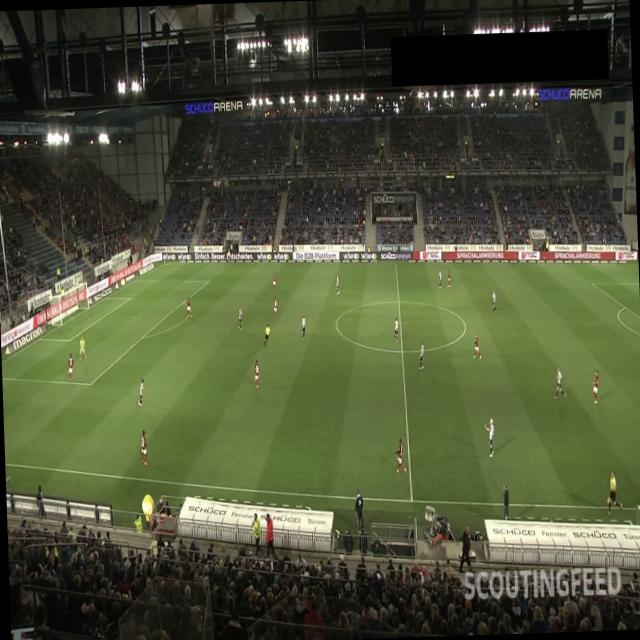ball: (81, 344, 84, 352)
goalkeeper: (78, 336, 87, 360)
player: (484, 416, 495, 457), (552, 366, 566, 398), (394, 438, 406, 474), (140, 428, 148, 464), (592, 369, 600, 404), (472, 333, 481, 359), (253, 360, 260, 390), (418, 341, 424, 370), (68, 352, 74, 380), (138, 378, 144, 406), (393, 316, 399, 342), (491, 289, 497, 314), (237, 306, 243, 330), (300, 314, 306, 338), (272, 296, 278, 318), (186, 296, 192, 318), (446, 267, 451, 288), (437, 268, 442, 288), (335, 274, 339, 294), (272, 272, 276, 290)
referee: (604, 469, 622, 515), (262, 322, 270, 347)
